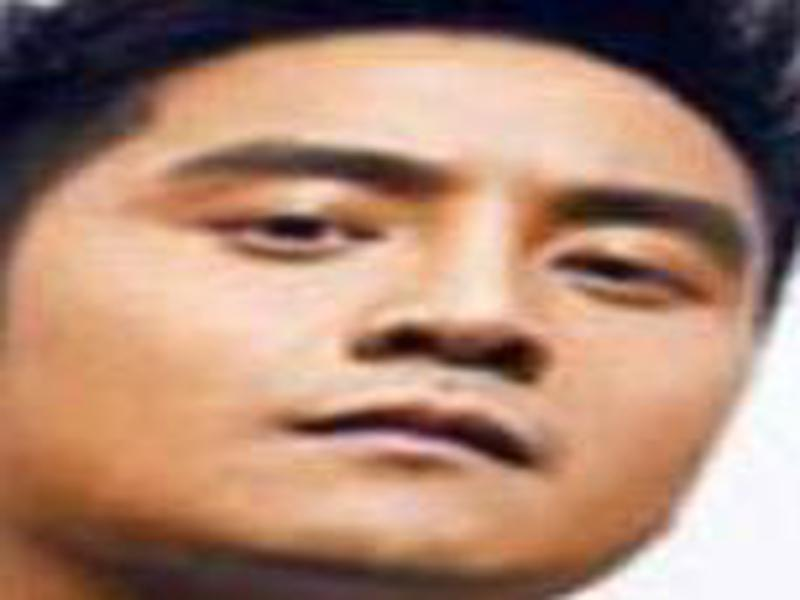without_mask: (14, 38, 768, 580)
